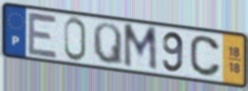0: (63, 15, 87, 64)
9: (162, 31, 184, 73)
C: (188, 34, 224, 79)
E: (26, 10, 60, 61)
M: (121, 22, 159, 74)
Q: (91, 21, 125, 68)
